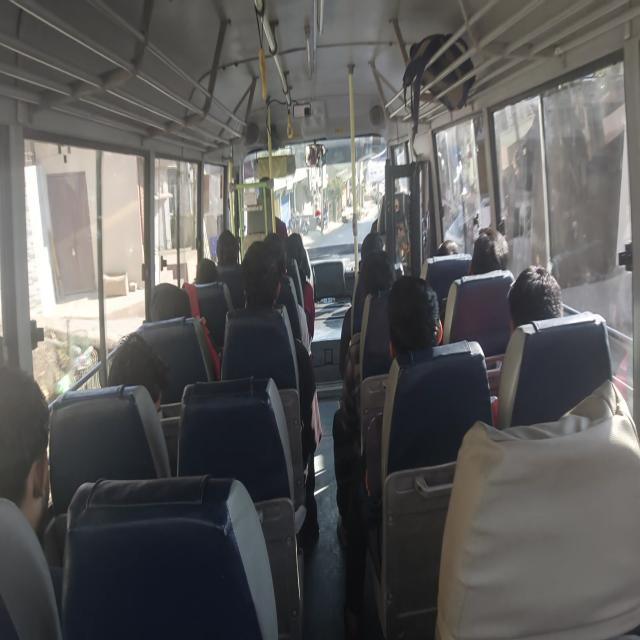person: (0, 359, 50, 628), (118, 331, 166, 450), (515, 261, 573, 347), (377, 271, 432, 353), (474, 222, 513, 290), (252, 236, 286, 303), (153, 275, 189, 331), (214, 224, 240, 272), (190, 244, 218, 286), (262, 222, 289, 264), (432, 233, 458, 269), (360, 237, 392, 266), (368, 259, 394, 294)
